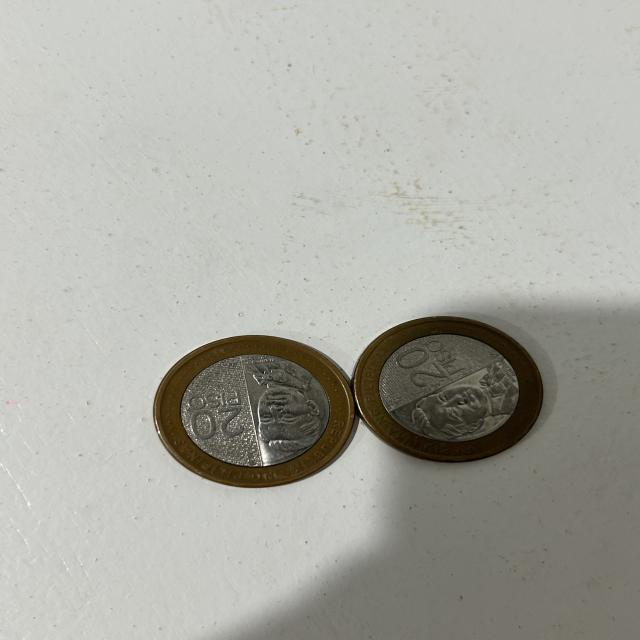20_New_Front: (182, 389, 253, 451), (396, 339, 463, 390)
